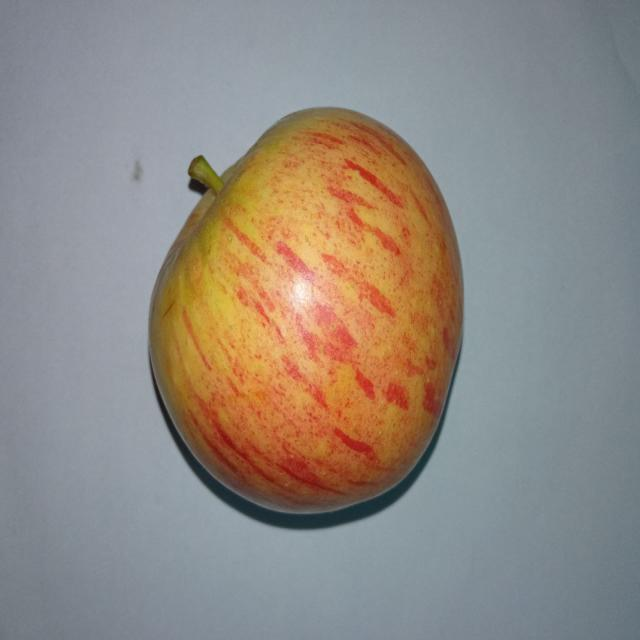fresh_apple: (146, 106, 462, 511)
